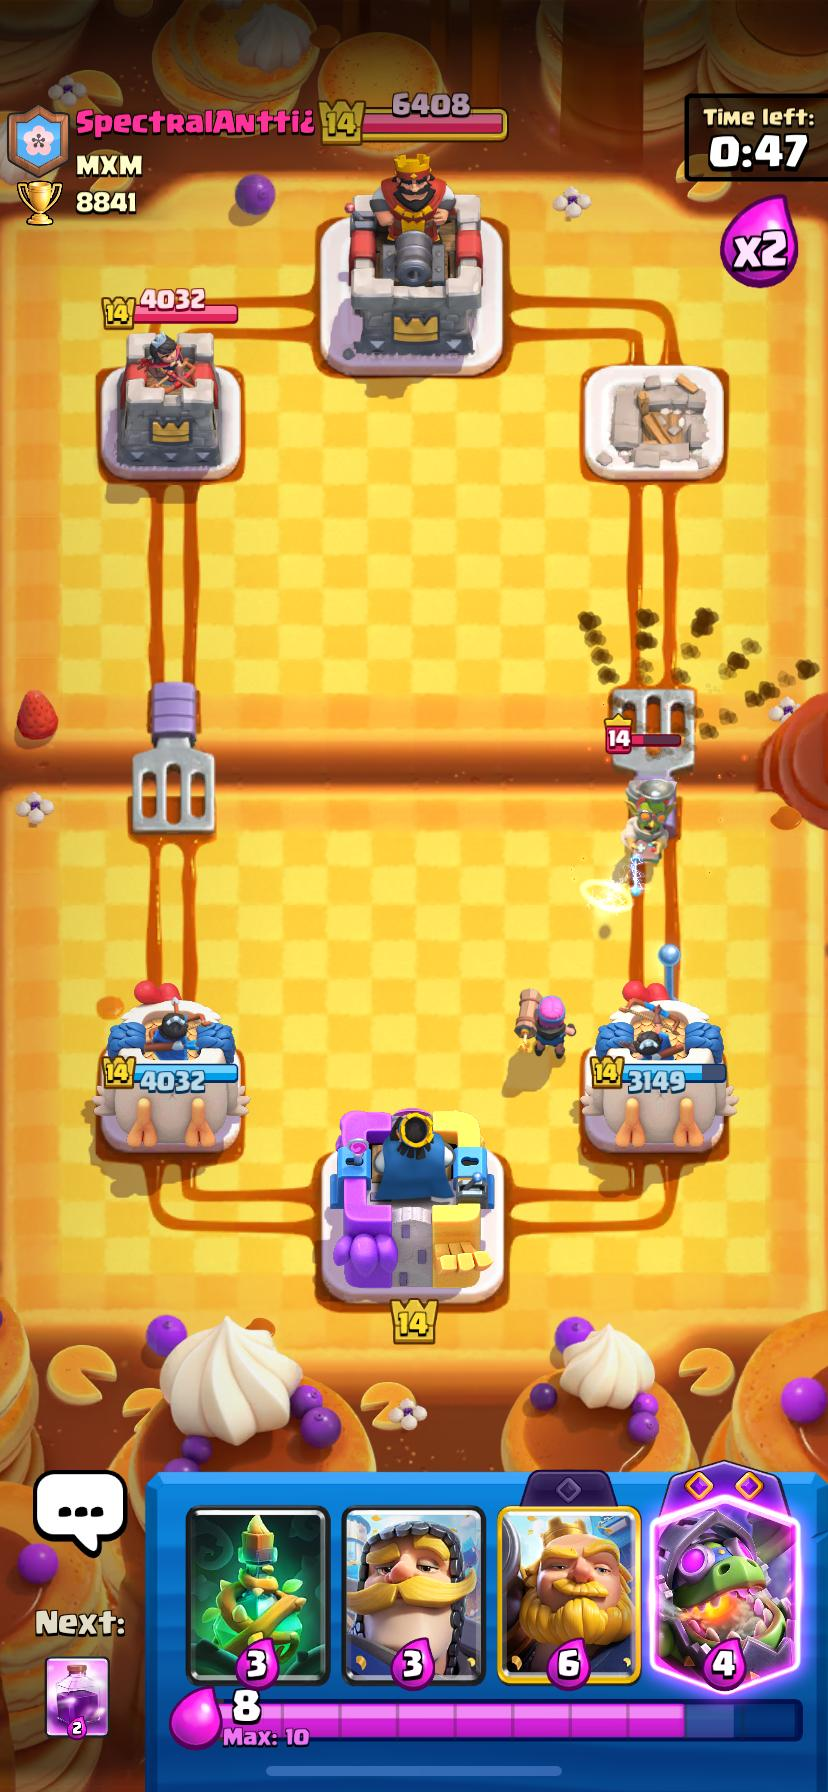EDoctor: (622, 776, 675, 864)
EKingTower: (343, 155, 483, 374)
EnemyPrincessTower: (101, 331, 241, 481)
OFirecrack: (515, 989, 574, 1059)
OwnKingTower: (321, 1109, 503, 1303)
OwnPrincessTower: (580, 982, 735, 1154), (93, 983, 248, 1152)
TowerDown: (583, 365, 724, 481)
